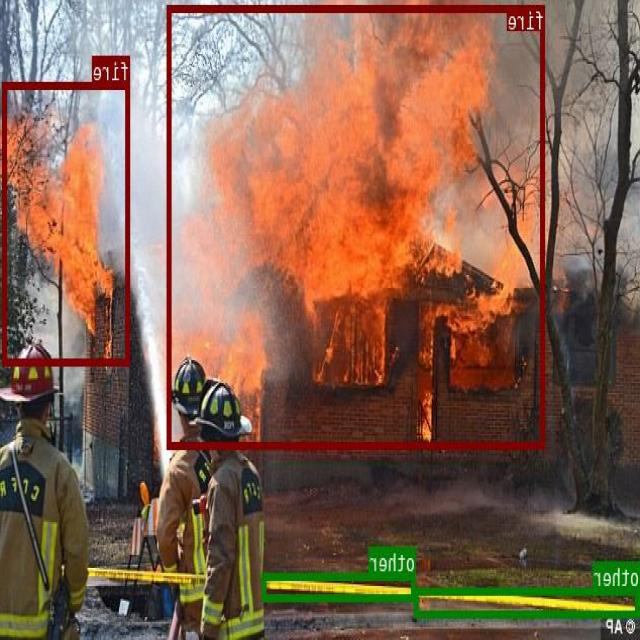fire: (168, 4, 546, 448), (3, 82, 131, 364)
other: (415, 587, 640, 616), (264, 572, 416, 600)
